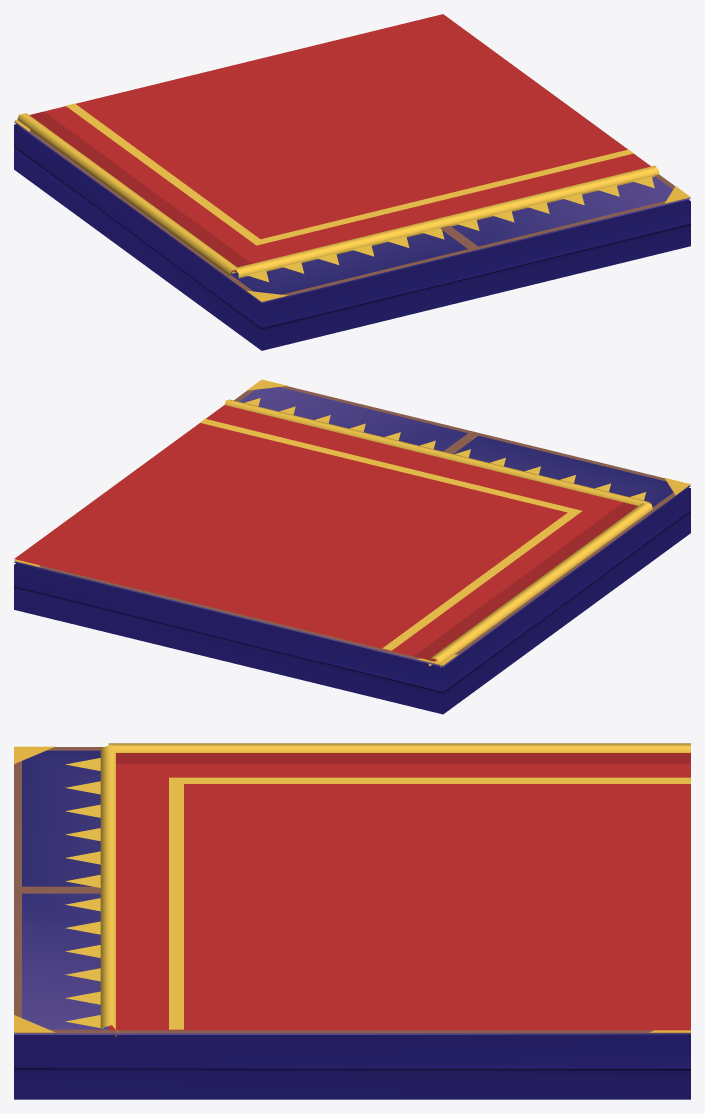
File: tile_red_carpet_l_end.glb
The picture shows the model from 3 angles, top to bottom: view 1: azimuth 30°, elevation 25°; view 2: azimuth 150°, elevation 25°; view 3: azimuth 270°, elevation 25°; orthographic projection. The views are drawn at different scales.
Visible parts, largest first — view 1: Tile.001; view 2: Tile.001; view 3: Tile.001.
Boxes of the visible parts, x1=… form: Tile.001: x1=14, y1=14, x2=690, y2=350; Tile.001: x1=14, y1=379, x2=690, y2=714; Tile.001: x1=14, y1=743, x2=690, y2=1099.
Bounding box in the file's own units: 1 × 0.1213 × 1.
